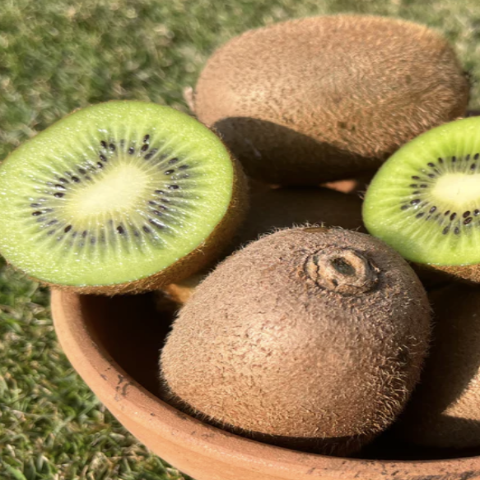kiwi: (148, 188, 449, 462), (165, 9, 477, 192)
